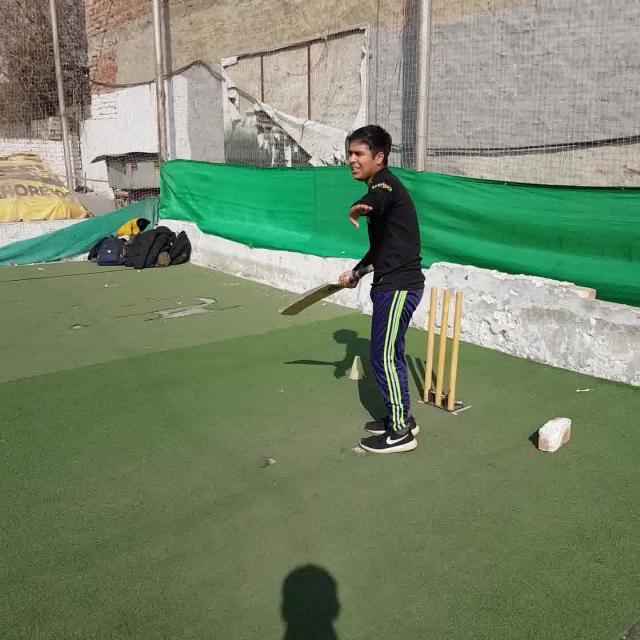bat: (280, 264, 375, 316)
